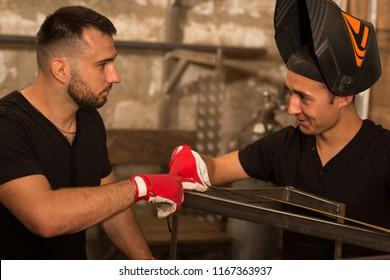gloves: (130, 173, 183, 218), (168, 143, 210, 192)
